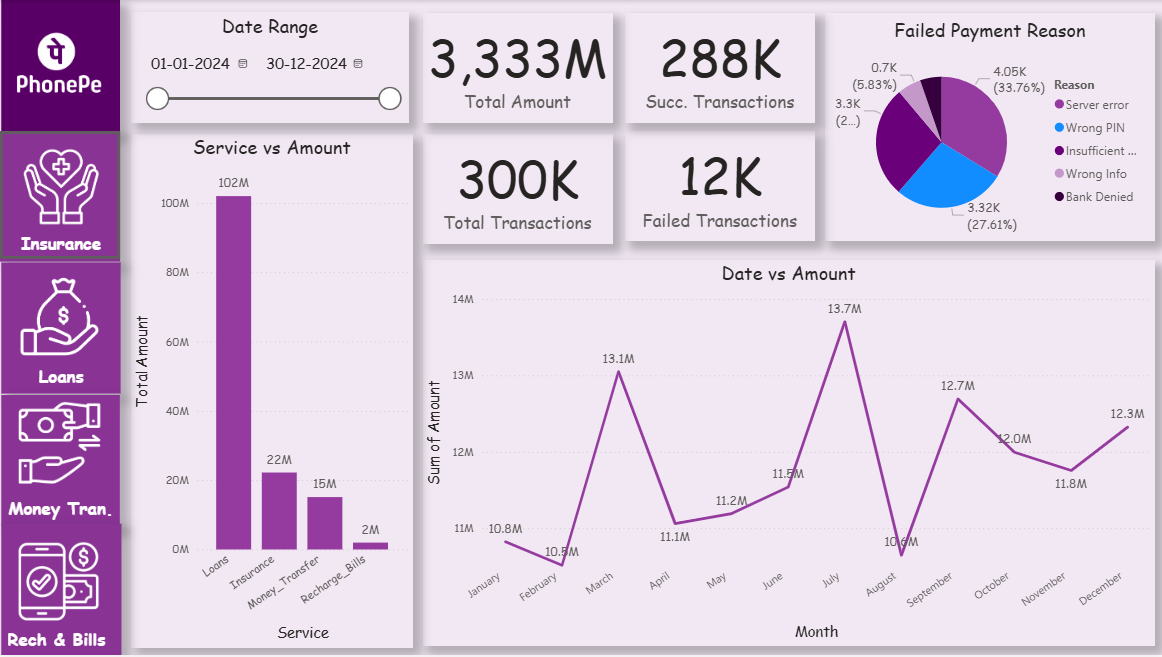

What the dashboard file says about the page in this screenshot:
{"tool":"powerbi","page":{"name":"Home","canvas":[1280,720],"ordinal":0},"visuals":[{"type":"shape","box":[1.9,0,130.8,144.5],"z":0,"group":"g1"},{"type":"slicer","title":"Date Range","fields":{"Values":["All_Transactions.Date"]},"box":[144.1,13.7,304.6,120.8],"z":0},{"type":"card","title":"Total Transaction Amount","fields":{"Values":["Sum(All_Transactions.Amount)"]},"box":[463.8,13.7,208.6,120.8],"z":1000},{"type":"shape","box":[1.6,432.5,130.2,143],"z":1000,"group":"g4"},{"type":"card","title":"Total Transaction Amount","fields":{"Values":["Count(All_Transactions.Transaction_ID)"]},"box":[686.1,13.7,208.6,120.8],"z":2000},{"type":"shape","box":[0.8,288.4,131.4,144.2],"z":2000,"group":"g3"},{"type":"shape","box":[0,144.5,131.8,143.4],"z":3000,"group":"g2"},{"type":"card","title":"Total Transaction Amount","fields":{"Values":["Count(All_Transactions.Transaction_ID)"]},"box":[463.8,146.8,208.6,120.8],"z":3000},{"type":"card","title":"Total Transaction Amount","fields":{"Values":["Count(All_Transactions.Transaction_ID)"]},"box":[686.1,144.1,208.6,120.8],"z":4000},{"type":"shape","box":[1.1,574.6,132,145.8],"z":4000,"group":"g5"},{"type":"image","box":[9.5,8.4,109.7,126.5],"z":5000,"group":"g1"},{"type":"pieChart","title":"Failed Payment Reason","fields":{"Category":["All_Transactions.Reason"],"Y":["CountNonNull(All_Transactions.Reason)"]},"box":[905.7,13.7,362.3,251.1],"z":5000},{"type":"image","box":[12.7,144.5,109.7,122.3],"z":6000,"group":"g2"},{"type":"lineChart","title":"Date vs Amount","fields":{"Category":["All_Transactions.Date.Variation.Date Hierarchy.Month"],"Y":["Sum(All_Transactions.Amount)"]},"box":[463.8,285.4,804.1,424],"z":6000},{"type":"clusteredColumnChart","title":"Service vs Amount","fields":{"Y":["Sum(All_Transactions.Amount)"],"Category":["All_Transactions.Service"]},"box":[144.1,146.8,308.7,564],"z":7000},{"type":"image","box":[12.7,285.8,106.5,122.3],"z":7000,"group":"g3"},{"type":"group","id":"g1","title":"Group 1","box":[1.9,0,130.8,144.5],"z":8000},{"type":"image","box":[9.5,420.7,111.8,129.7],"z":8000,"group":"g4"},{"type":"group","id":"g2","title":"Group 2","box":[0,144.5,131.8,143.4],"z":9000},{"type":"image","box":[8.4,572.5,111.9,132],"z":9000,"group":"g5"},{"type":"textbox","box":[14.8,248.9,104.4,36.9],"z":10000,"group":"g2"},{"type":"group","id":"g3","title":"Group 3","box":[0.8,285.8,131.4,146.8],"z":10000},{"type":"group","id":"g4","title":"Group 4","box":[1.1,420.7,130.8,155],"z":11000},{"type":"textbox","box":[1.1,538.8,130.8,36.9],"z":11000,"group":"g4"},{"type":"group","id":"g5","title":"Group 5","box":[0,144.1,133.1,576.3],"z":12000},{"type":"textbox","box":[14.8,395.5,104.4,36.9],"z":12000,"group":"g3"},{"type":"textbox","box":[1.1,683.2,121.4,37.3],"z":13000,"group":"g5"},{"type":"actionButton","box":[0,144.1,131.9,139.9],"z":18009,"group":"g5"}]}

Visuals, with their boxes in screenshot pixels (x1, y1, x2, y2), scaled from the page's 1280x720 canvas onto the 1162x657 screenshot:
shape: <region>2, 0, 120, 132</region>
"Date Range" slicer: <region>131, 13, 407, 123</region>
"Total Transaction Amount" card: <region>421, 13, 610, 123</region>
shape: <region>1, 395, 120, 525</region>
"Total Transaction Amount" card: <region>623, 13, 812, 123</region>
shape: <region>1, 263, 120, 395</region>
shape: <region>0, 132, 120, 263</region>
"Total Transaction Amount" card: <region>421, 134, 610, 244</region>
"Total Transaction Amount" card: <region>623, 131, 812, 242</region>
shape: <region>1, 524, 121, 656</region>
image: <region>9, 8, 108, 123</region>
"Failed Payment Reason" pieChart: <region>822, 13, 1151, 242</region>
image: <region>12, 132, 111, 243</region>
"Date vs Amount" lineChart: <region>421, 260, 1151, 647</region>
"Service vs Amount" clusteredColumnChart: <region>131, 134, 411, 649</region>
image: <region>12, 261, 108, 372</region>
"Group 1" group: <region>2, 0, 120, 132</region>
image: <region>9, 384, 110, 502</region>
"Group 2" group: <region>0, 132, 120, 263</region>
image: <region>8, 522, 109, 643</region>
textbox: <region>13, 227, 108, 261</region>
"Group 3" group: <region>1, 261, 120, 395</region>
"Group 4" group: <region>1, 384, 120, 525</region>
textbox: <region>1, 492, 120, 525</region>
"Group 5" group: <region>0, 131, 121, 656</region>
textbox: <region>13, 361, 108, 395</region>
textbox: <region>1, 623, 111, 656</region>
actionButton: <region>0, 131, 120, 259</region>
